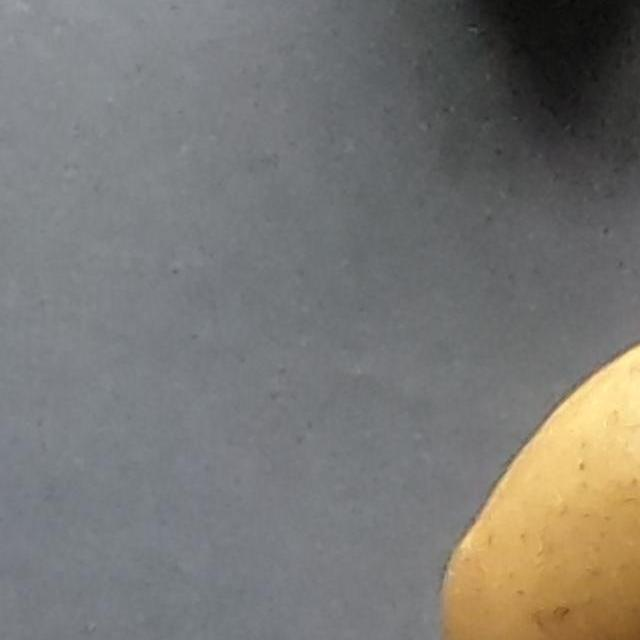potato: (316, 176, 640, 640)
